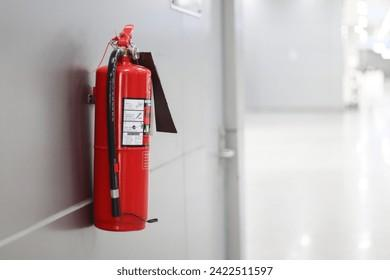wall-mounted: (78, 23, 179, 236)
